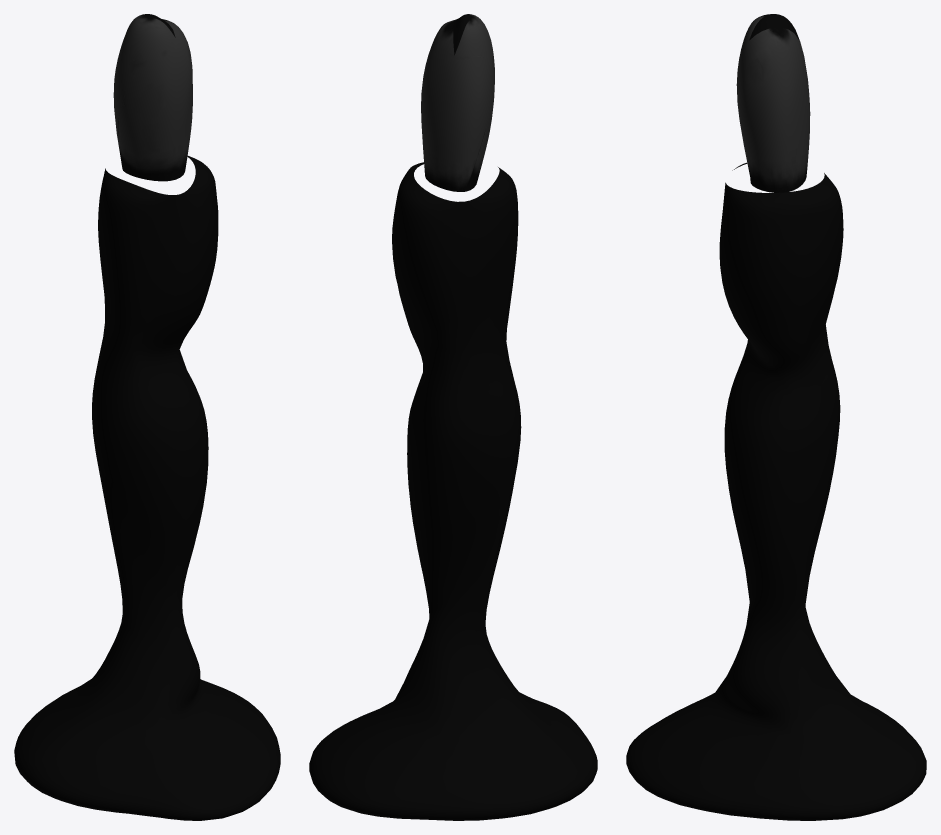
The model's file is wooden_candlestick.glb.
The picture shows the model from 3 angles, left to right: view 1: azimuth 30°, elevation 25°; view 2: azimuth 150°, elevation 25°; view 3: azimuth 270°, elevation 25°; orthographic projection.
Parts seen in each view (by area): view 1: wooden_candlestick; view 2: wooden_candlestick; view 3: wooden_candlestick.
Part boxes in pixels (x1,y1,x2,y2): wooden_candlestick: [14, 14, 280, 820]; wooden_candlestick: [309, 14, 597, 820]; wooden_candlestick: [626, 14, 926, 820].
Bounding box in the file's own units: 0.0701 × 0.2096 × 0.0753.
Materials: 1 (1 with a texture image).
